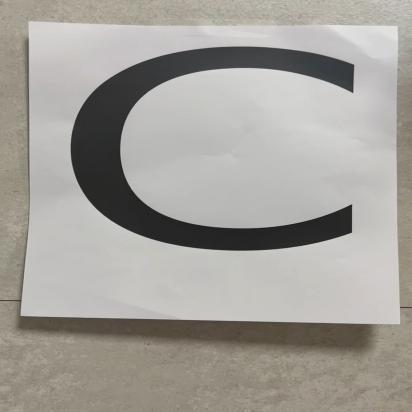seat: (28, 19, 403, 328)
